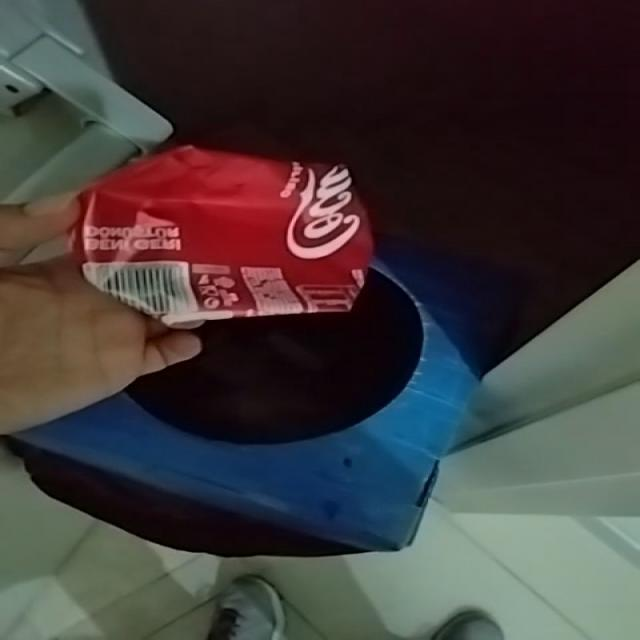Bin: (8, 255, 477, 557)
Metal: (72, 146, 373, 321)
